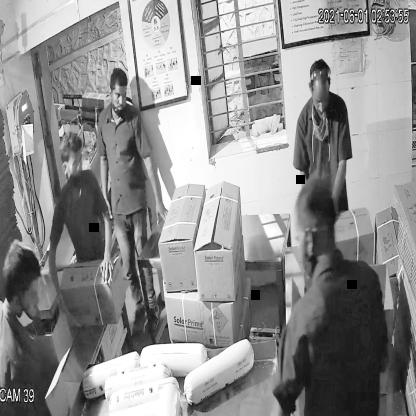goggles: (58, 151, 84, 178)
no_goggles: (308, 89, 330, 112)
